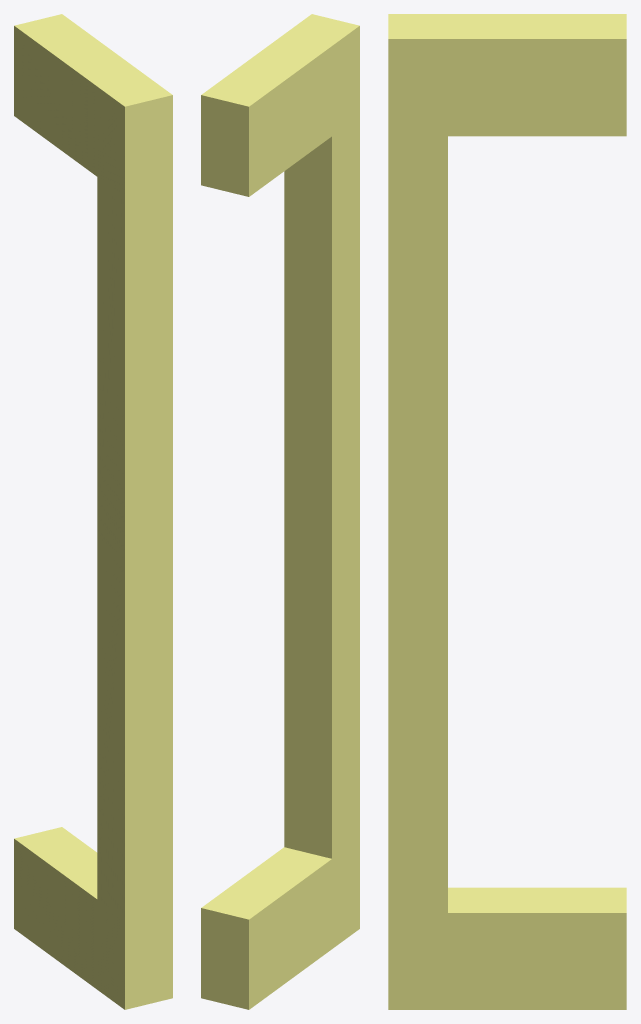
File: handle_2.glb
The picture shows the model from 3 angles, left to right: view 1: azimuth 30°, elevation 25°; view 2: azimuth 150°, elevation 25°; view 3: azimuth 270°, elevation 25°; orthographic projection. The views are drawn at different scales.
Visible parts, largest first — view 1: Plane; view 2: Plane; view 3: Plane.
Part boxes in pixels (bbox=[...]): Plane: bbox=[14, 14, 172, 1009]; Plane: bbox=[201, 14, 359, 1009]; Plane: bbox=[388, 14, 626, 1009].
Bounding box in the file's own units: 0.01 × 0.18 × 0.04.
